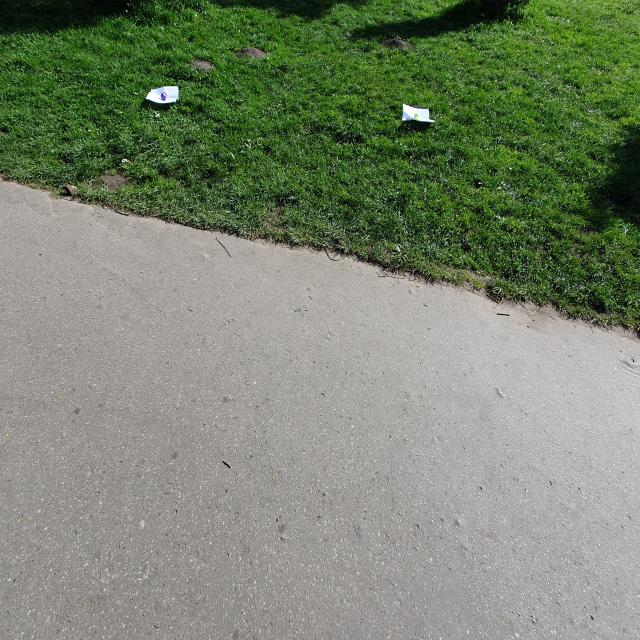green: (414, 112, 420, 120)
purple: (161, 92, 167, 100)
